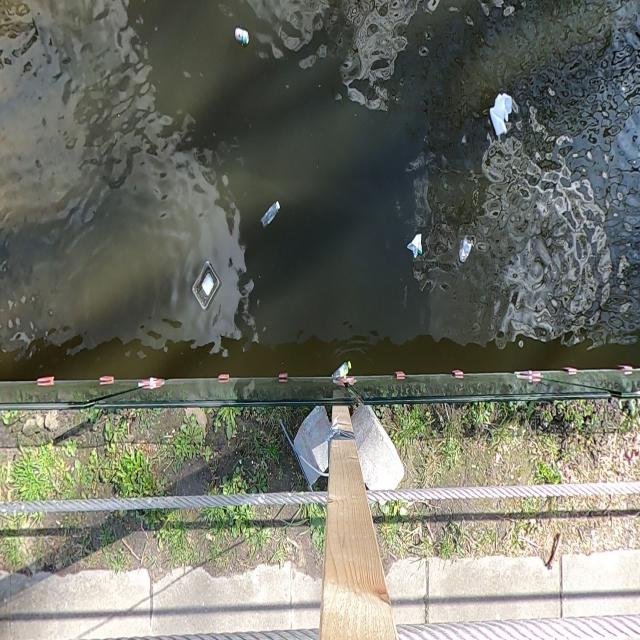Autre plastique: (190, 254, 222, 317)
Bouteille plastique: (258, 196, 285, 231), (331, 356, 357, 376)
Non plastique: (231, 20, 253, 51)
